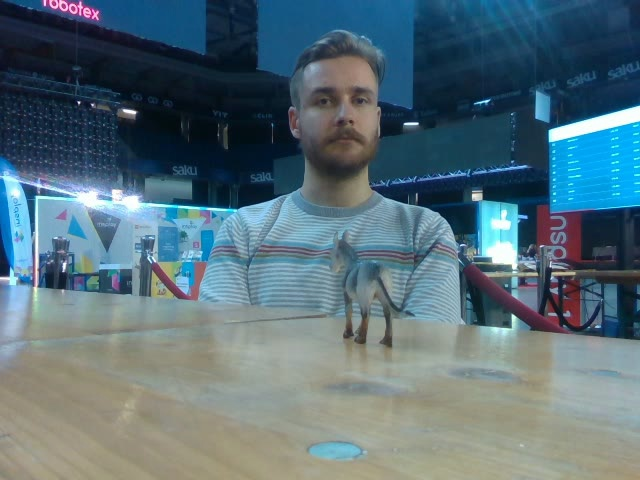toy: (327, 231, 415, 348)
